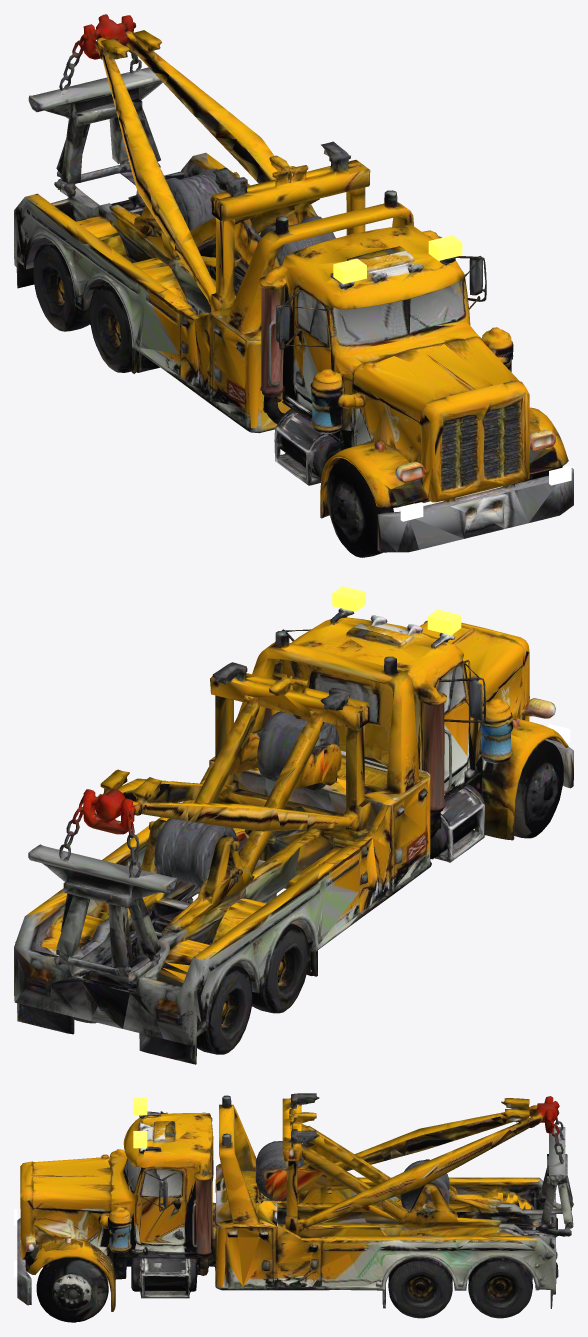
Rendered from tow-heavy.glb.
3 views of the same model, one above another, from view 1: azimuth 30°, elevation 25°; view 2: azimuth 150°, elevation 25°; view 3: azimuth 270°, elevation 25° (orthographic). The views are drawn at different scales.
Visible parts, largest first — view 1: body, boom, wheel_0_R, wheel_1_R, wheel_2_R, beacon_L, beacon_R; view 2: body, boom, wheel_0_R, wheel_1_R, wheel_2_R, beacon_R, beacon_L; view 3: body, boom, wheel_0_L, wheel_1_L, wheel_2_L.
Part boxes in pixels (<box>): body: <box>14,133,573,557</box>; boom: <box>28,14,345,308</box>; wheel_0_R: <box>320,455,415,555</box>; wheel_1_R: <box>89,283,141,372</box>; wheel_2_R: <box>33,256,90,331</box>; beacon_L: <box>428,235,462,260</box>; beacon_R: <box>333,258,366,284</box>; body: <box>14,608,573,1064</box>; boom: <box>28,664,362,952</box>; wheel_0_R: <box>481,741,561,838</box>; wheel_1_R: <box>251,920,318,1013</box>; wheel_2_R: <box>197,974,252,1054</box>; beacon_R: <box>427,609,461,635</box>; beacon_L: <box>332,586,365,611</box>; body: <box>17,1093,573,1321</box>; boom: <box>296,1093,571,1229</box>; wheel_0_L: <box>43,1257,116,1322</box>; wheel_1_L: <box>382,1257,452,1318</box>; wheel_2_L: <box>468,1268,532,1318</box>.
Size of the model in its own units: 3.1 by 3.76 by 10.06.
Materials: 3 (1 with a texture image).
